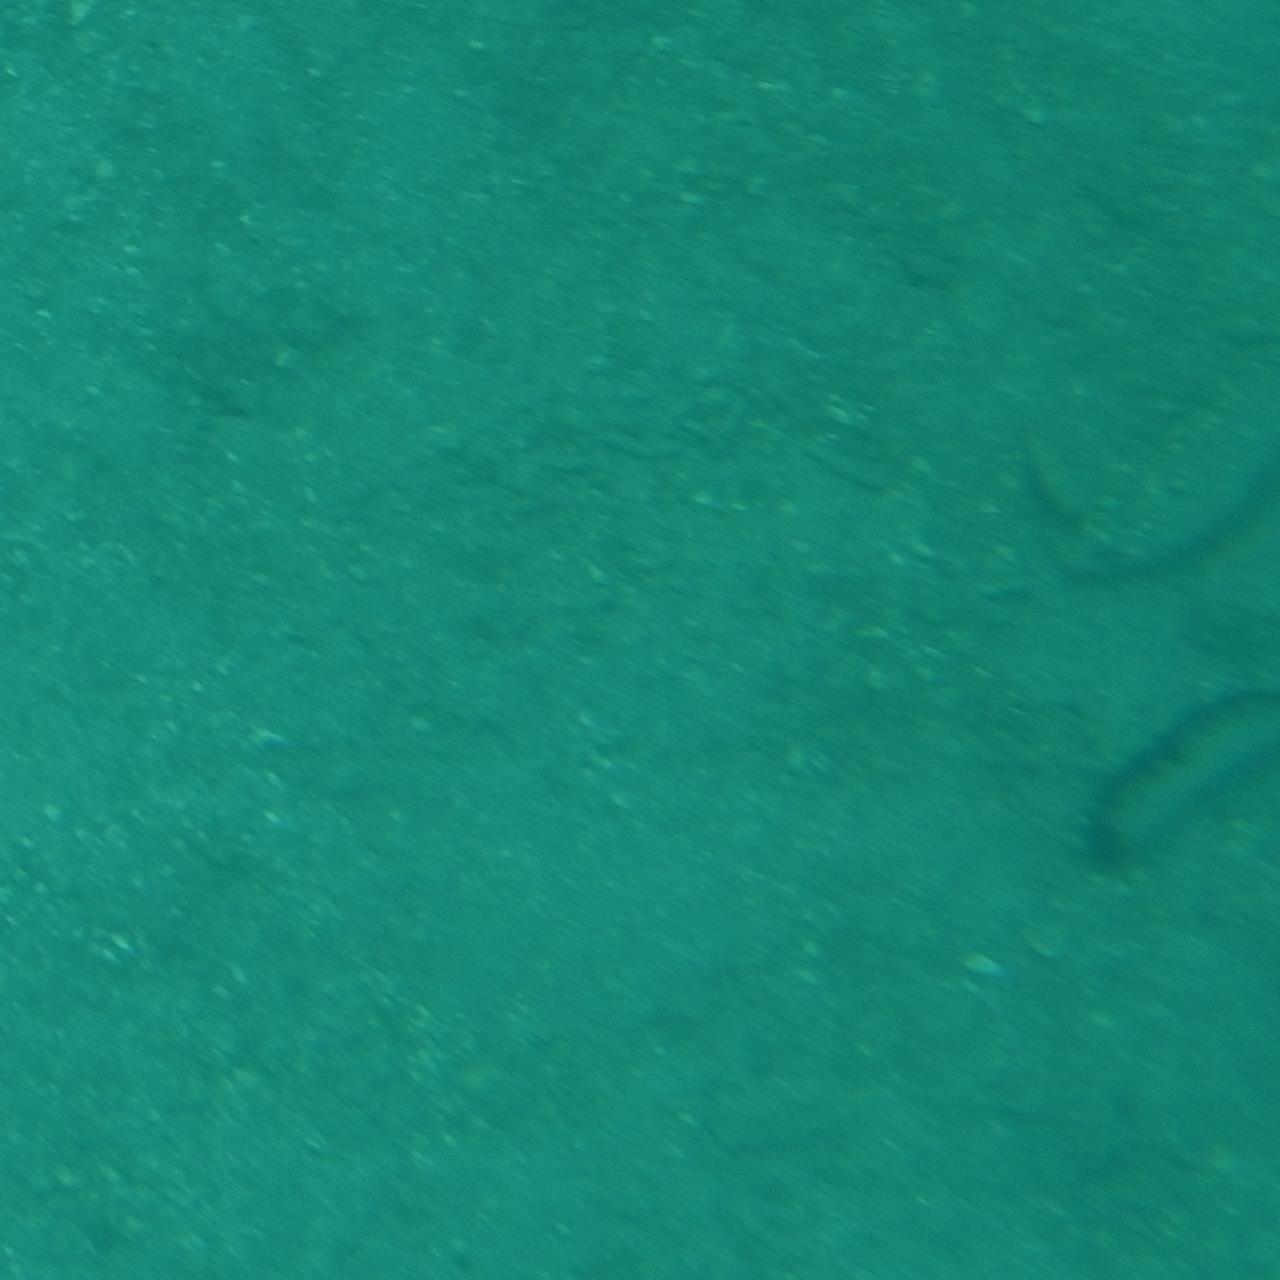Holothuria tubulosa: (1090, 384, 1280, 613), (1090, 681, 1280, 883)
